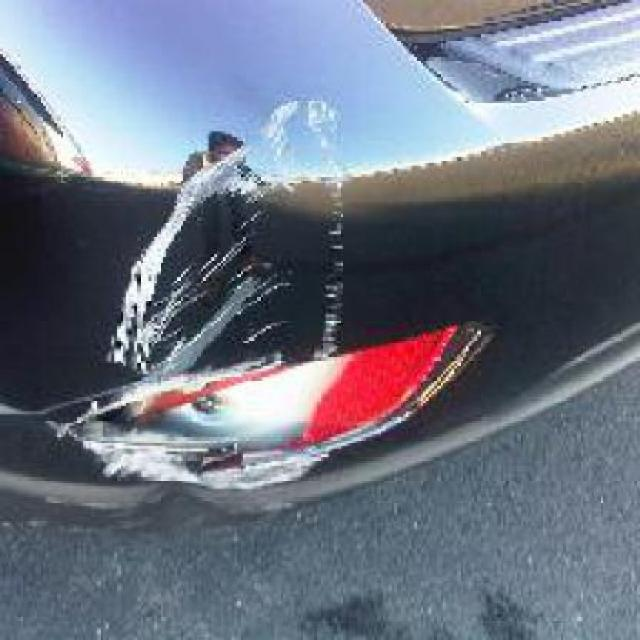dent-or-scratch: (70, 109, 402, 380)
